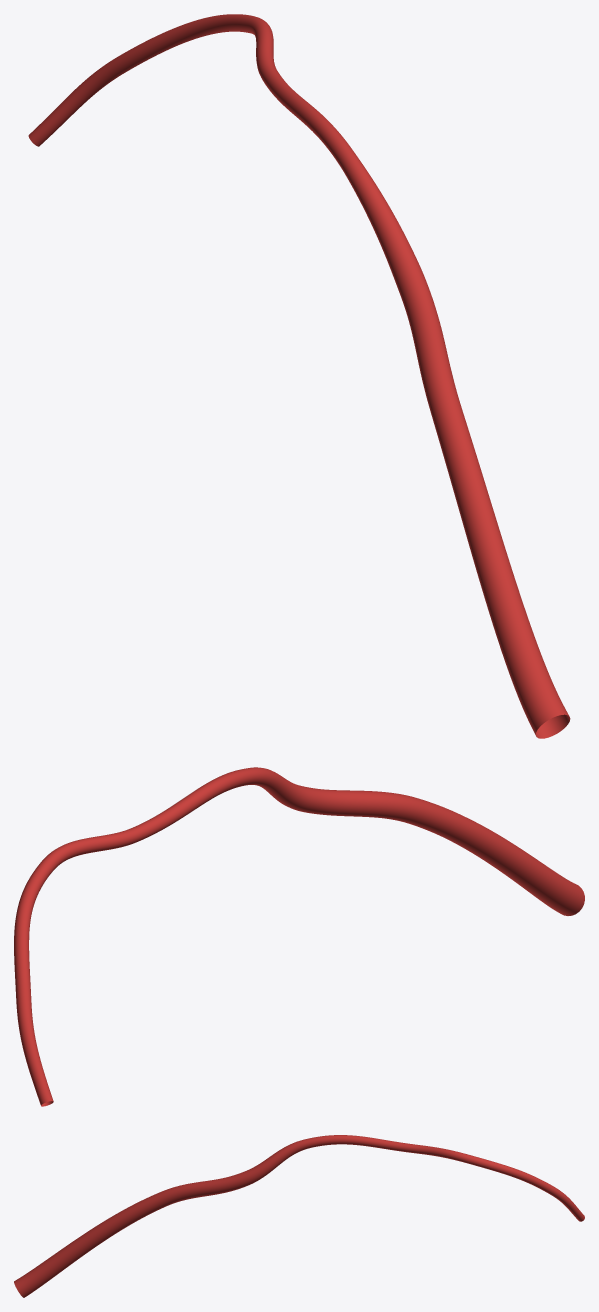
3 renders of one model, top to bottom at view 1: azimuth 30°, elevation 25°; view 2: azimuth 150°, elevation 25°; view 3: azimuth 270°, elevation 25°, orthographic. The views are drawn at different scales.
Parts seen in each view (by area): view 1: 左侧阴部内动脉; view 2: 左侧阴部内动脉; view 3: 左侧阴部内动脉.
Boxes of the visible parts, x1,y1,x2,y2 form: 左侧阴部内动脉: (28, 14, 570, 738); 左侧阴部内动脉: (14, 767, 584, 1106); 左侧阴部内动脉: (14, 1135, 584, 1297).
Bounding box in the file's own units: 0.0295 × 0.0585 × 0.165.
